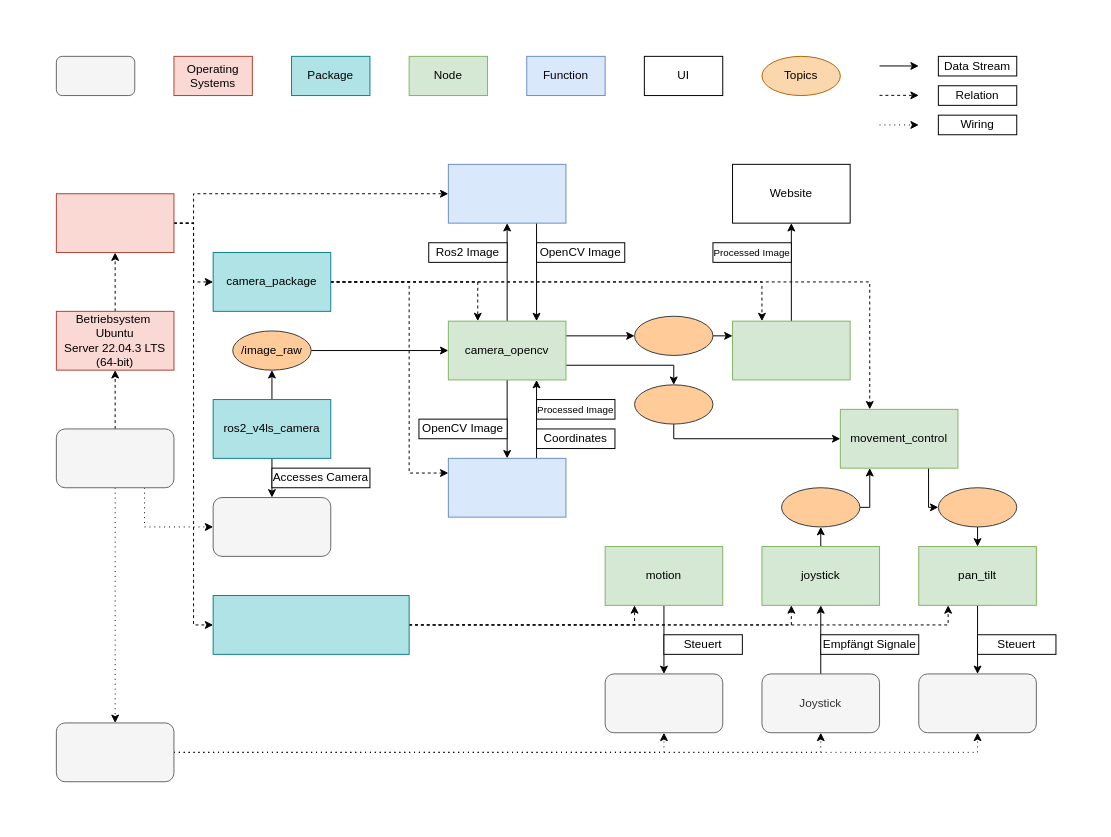
The diagram is 1111 pixels wide and 837 high, and some of its shapes have lost their labels. The centre of each missing label's shape, as x and y in pixels:
"/joystick" belongs at pixel 820 507.
"/opencv_image" belongs at pixel 673 335.
"/position_data" belongs at pixel 673 404.
"/servo" belongs at pixel 977 507.
"Alphabot 2" belongs at pixel 114 752.
"camera_streamer" belongs at pixel 791 350.
"cv_bridge" belongs at pixel 506 193.
"Hardware" belongs at pixel 95 75.
"human_detection" belongs at pixel 506 487.
"Kamera" belongs at pixel 271 526.
"Motoren" belongs at pixel 663 703.
"Raspberry Pi" belongs at pixel 114 458.
"ROS2 Humble" belongs at pixel 114 223.
"ros2_for_waveshare_alphabot2" belongs at pixel 310 624.
"Servos" belongs at pixel 977 703.
